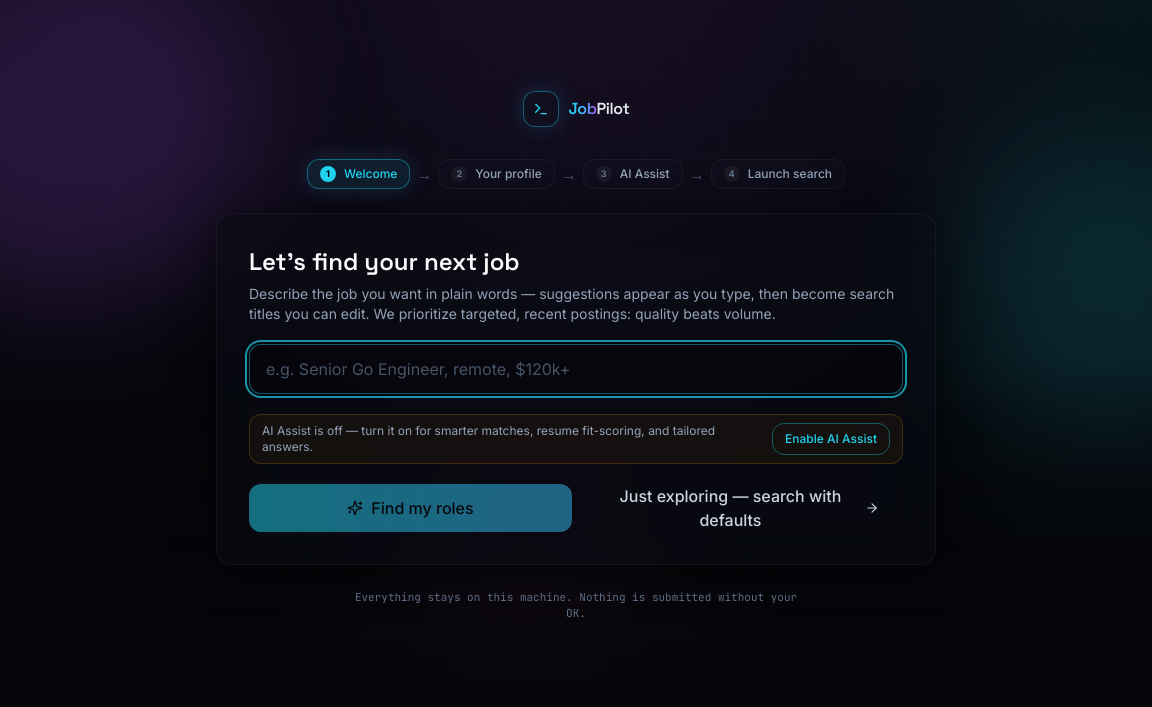
Test: OnboardingPage › shows location autocomplete suggestions in the profile step
Type "Go Engineer" into the field named "what job do you want" at (576, 368), box 249,344 -> 903,394
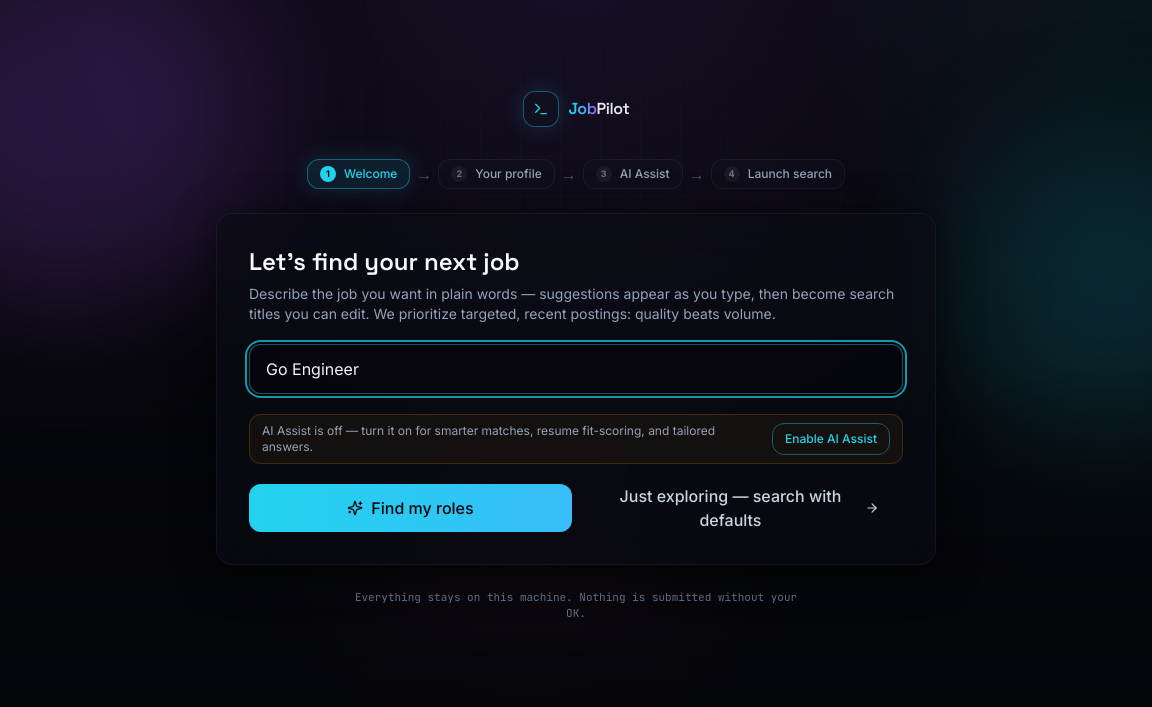
Click the button "Find my roles" at (410, 508), box 249,484 -> 572,532
(page scrolled)
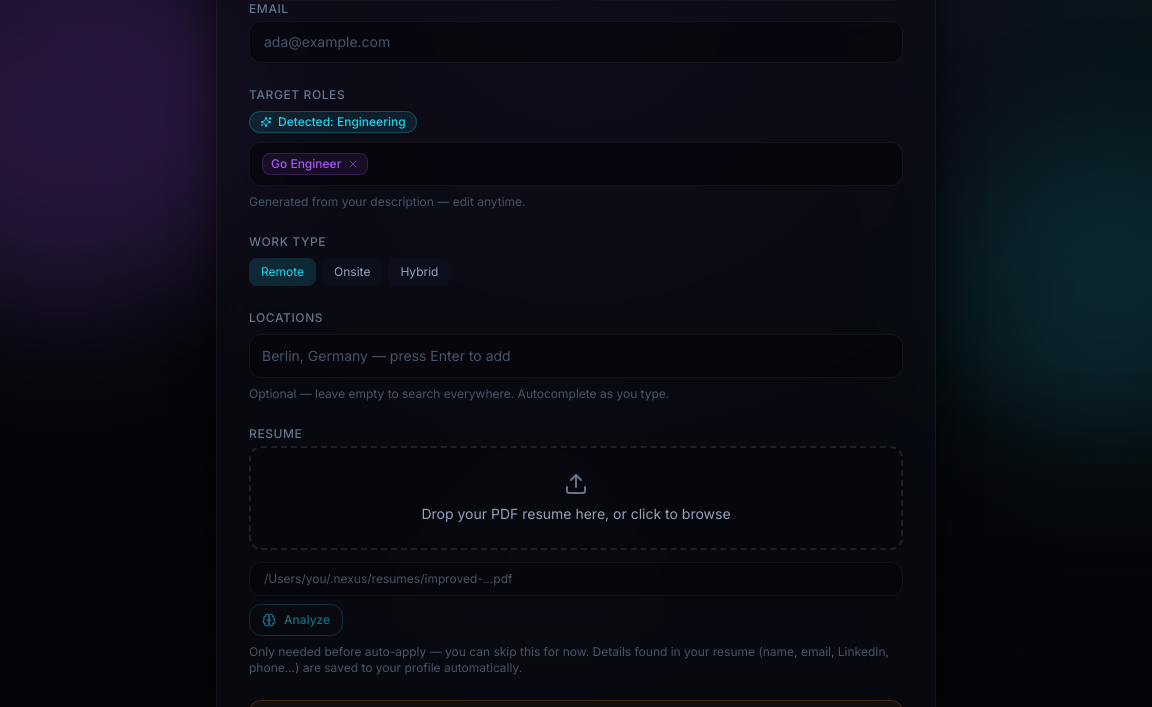
Type "Ber" into the field with placeholder "Berlin, Germany — press Enter to add" at (576, 356), box 262,342 -> 890,370
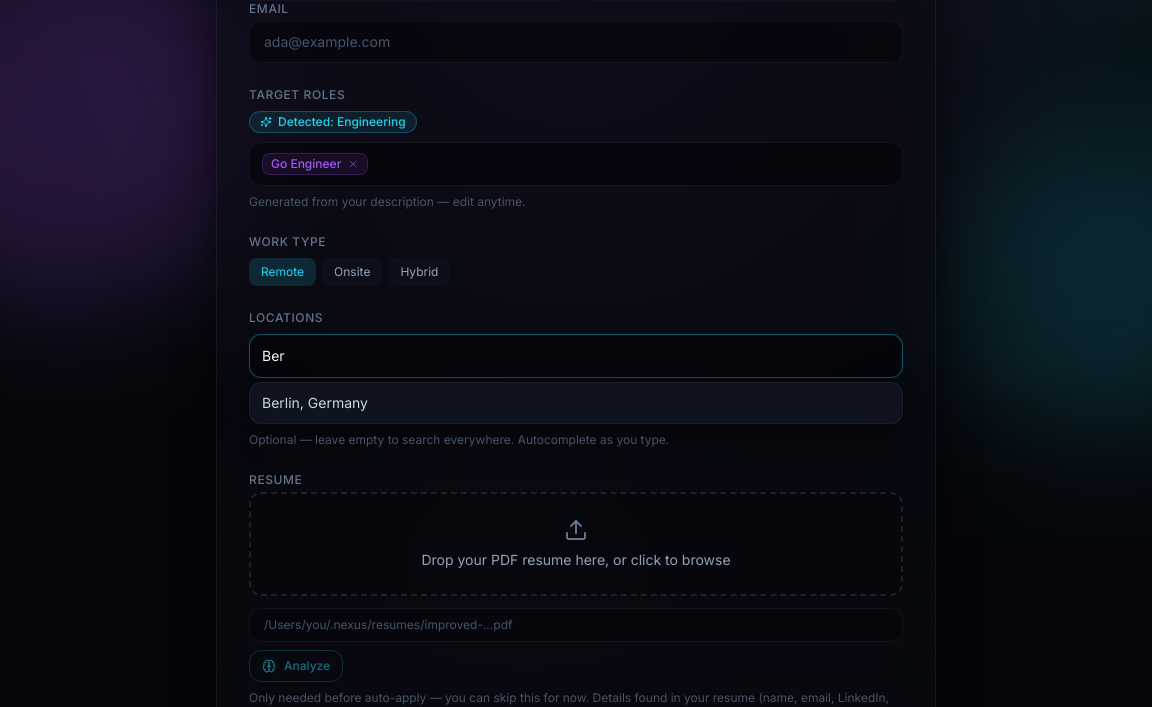
Expected: the button "Berlin, Germany" is shown, 250,387 -> 902,419
